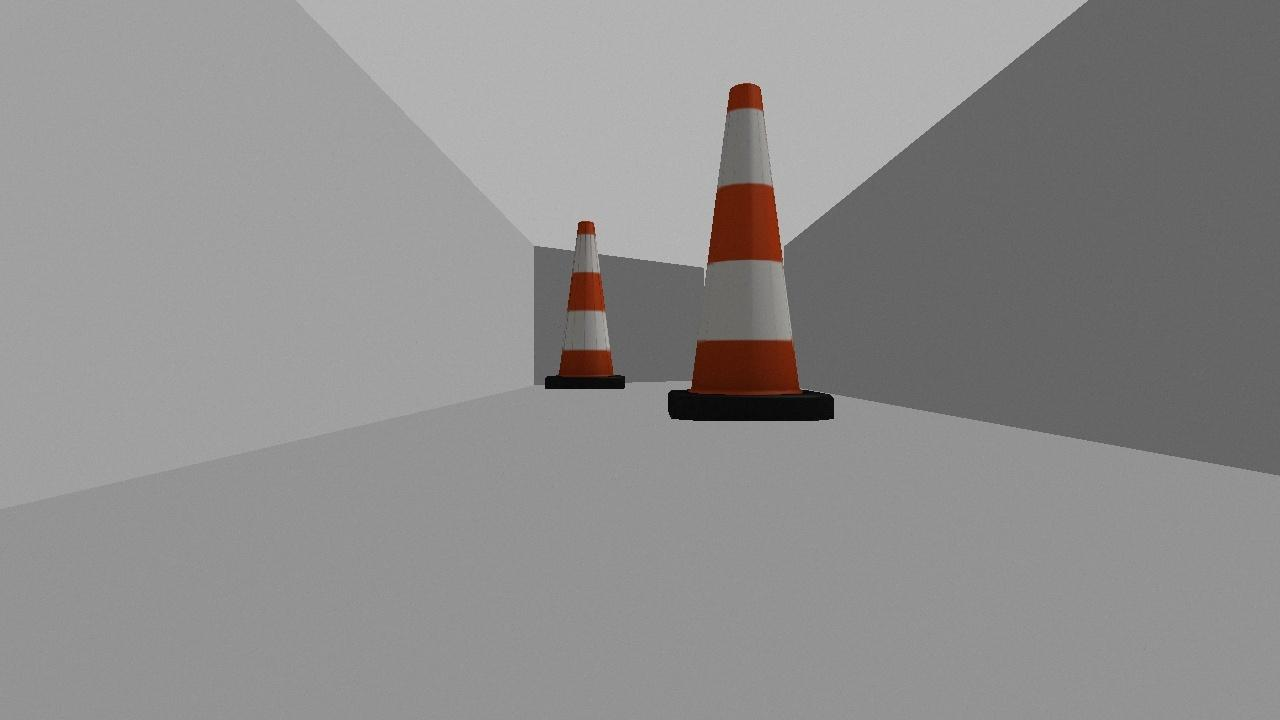cone_barrel: (654, 80, 844, 429), (537, 214, 632, 393)
